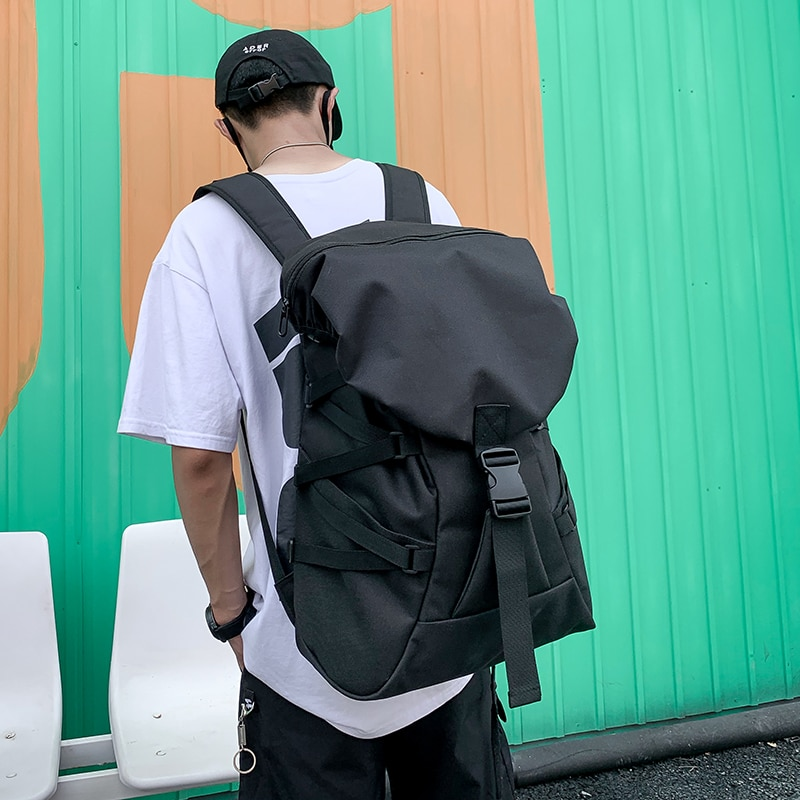Accessories|Earrings: (257, 142, 331, 167)
Accessories|Hats: (213, 30, 343, 140)
Accessories|Watches: (206, 588, 260, 642)
Men's Backpacks: (189, 161, 594, 699)
Tops|T-shirts & Tanks: (113, 158, 476, 731)
